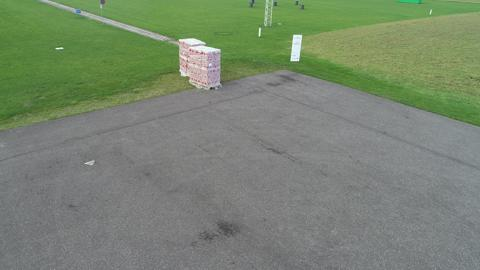RockwoolPallet: (178, 35, 206, 76)
